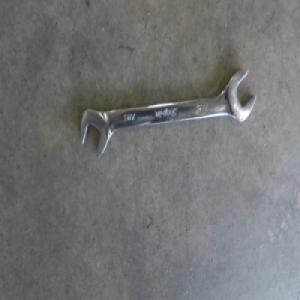Wrench: (82, 70, 253, 157)
